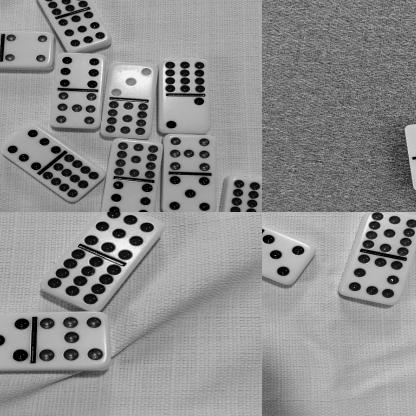pip-1: (404, 122, 416, 155)
pip-11: (361, 212, 416, 255), (110, 138, 160, 180), (100, 98, 151, 139)
pip-12: (38, 248, 121, 312), (42, 153, 106, 203), (161, 58, 208, 93), (226, 175, 262, 212), (34, 0, 88, 14)
pip-2: (160, 94, 214, 133)
pip-3: (107, 61, 156, 99)
pip-4: (4, 29, 51, 67)
pip-5: (262, 234, 315, 285), (161, 173, 215, 212), (0, 312, 33, 371)
pip-6: (0, 122, 60, 169), (54, 52, 103, 90), (103, 177, 155, 212)
pip-7: (35, 312, 107, 369), (163, 134, 216, 174), (49, 91, 100, 127)
pip-8: (339, 254, 402, 304)
pip-9: (83, 212, 163, 259), (56, 10, 109, 51)
